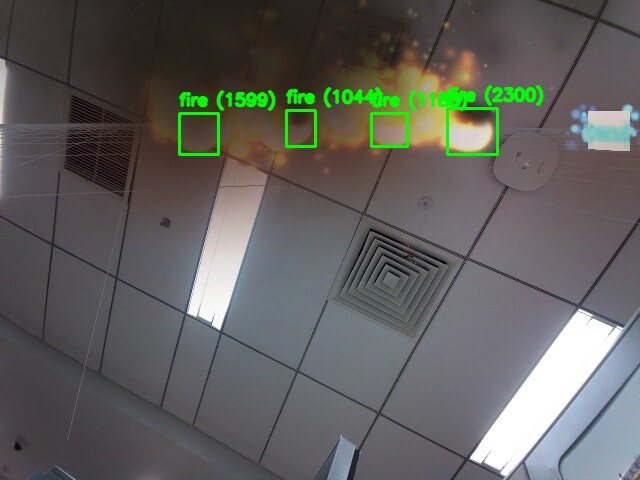fire: (447, 108, 497, 154), (179, 113, 218, 154), (371, 113, 407, 146), (286, 110, 315, 146)
